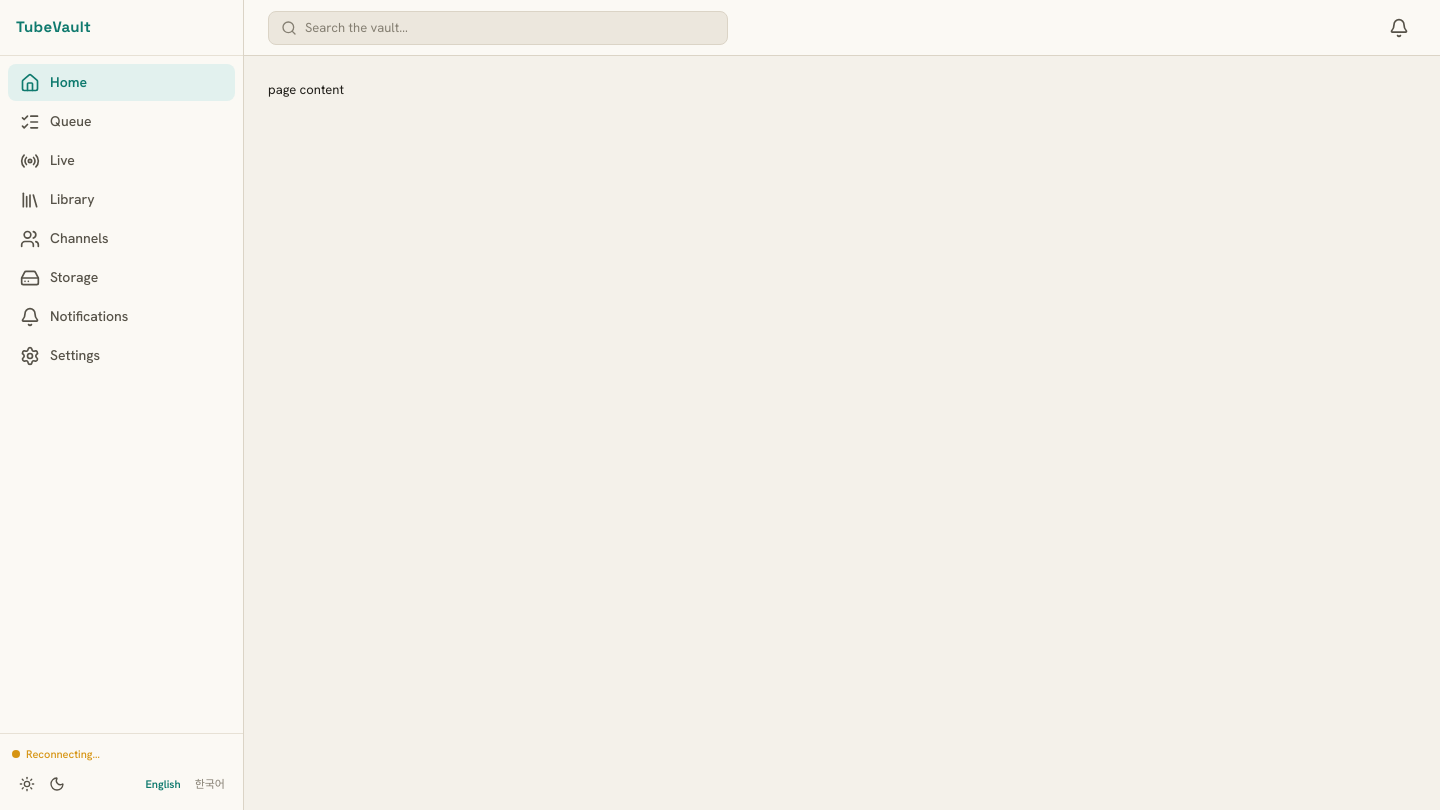
Scenario: AppShell — chrome › opens the search overlay from the top bar
Click the button "Search the vault…": (356, 27) [268,10,728,44]
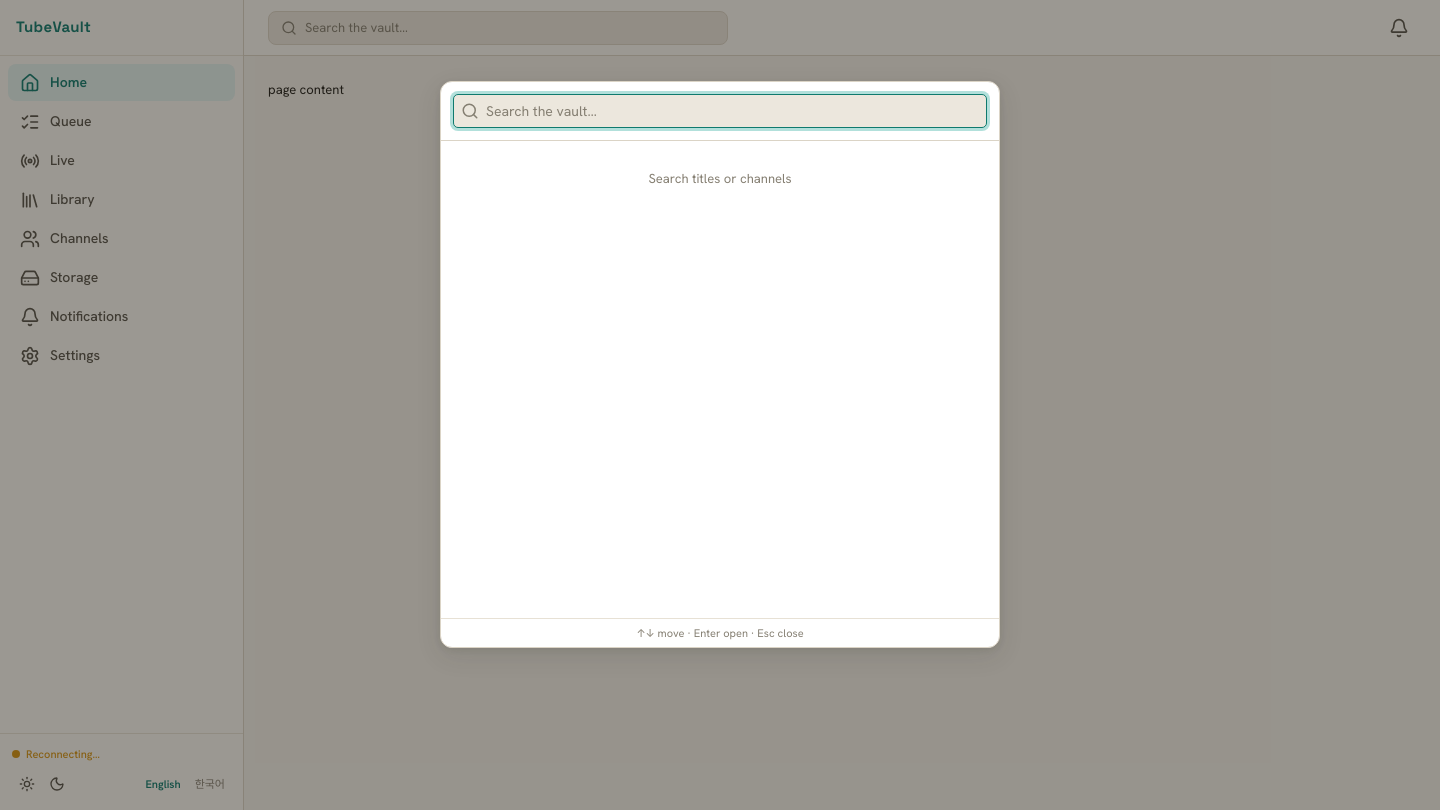
Expected: the dialog is shown, [440,81,1000,648]
Expected: the search field is shown, [453,94,987,128]
